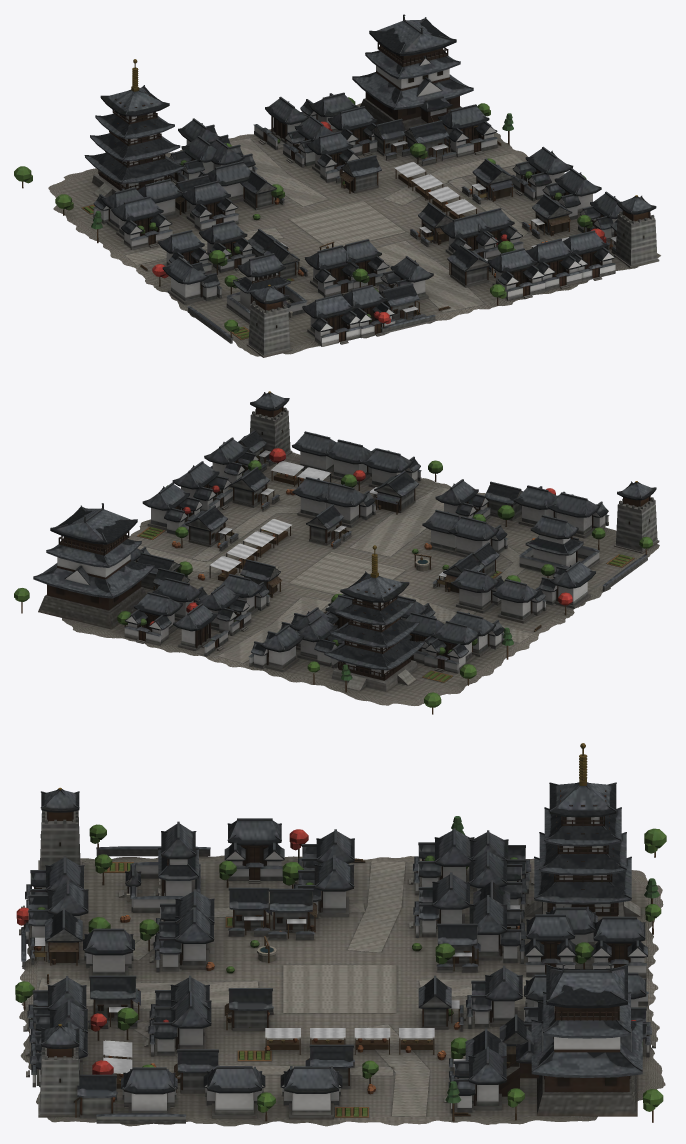
File: kingdoms-town-big-a-japan.glb
The picture shows the model from 3 angles, top to bottom: view 1: azimuth 30°, elevation 25°; view 2: azimuth 150°, elevation 25°; view 3: azimuth 270°, elevation 25°; orthographic projection. The views are drawn at different scales.
Visible parts, largest first — view 1: LOD0; view 2: LOD0; view 3: LOD0.
Part boxes in pixels (x1,y1,x2,y2): LOD0: (14,14,660,357); LOD0: (14,391,659,714); LOD0: (15,743,666,1126).
Size of what is drawn, in the model's own units: 8.05 by 2.33 by 8.12.
Materials: 3 (3 with a texture image).
